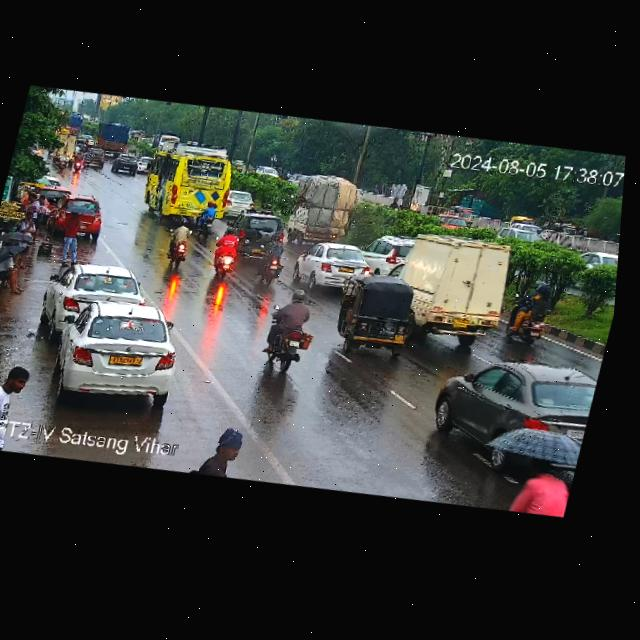bus: (131, 131, 248, 237)
car: (421, 340, 601, 456), (45, 291, 191, 412), (327, 265, 427, 362), (42, 253, 151, 332), (289, 233, 379, 296), (220, 205, 293, 269), (46, 191, 104, 240), (110, 150, 141, 176), (225, 186, 253, 214), (88, 146, 108, 167), (135, 154, 153, 175)
motorcycle: (494, 438, 581, 521), (251, 282, 321, 377), (502, 268, 562, 347), (162, 212, 195, 270), (211, 225, 244, 283), (183, 198, 222, 242), (56, 148, 71, 171), (72, 148, 84, 171), (82, 148, 92, 166)
person: (202, 421, 258, 482), (0, 358, 37, 414), (58, 211, 86, 264), (0, 250, 29, 296), (14, 209, 40, 233), (24, 190, 39, 207), (37, 193, 46, 205)
truck: (339, 215, 526, 358), (282, 171, 360, 248), (90, 116, 133, 157), (52, 132, 81, 162)
